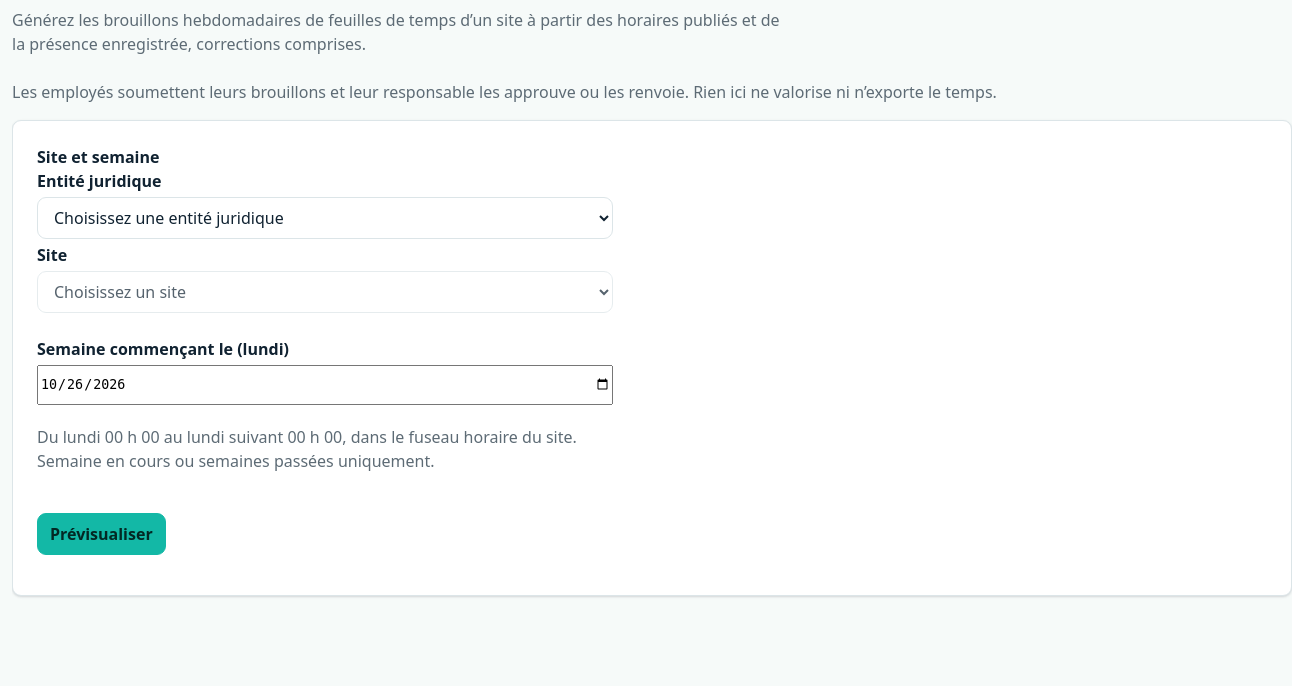
Test: Timesheets (fr) › shows a refused week without guessing
Select "Dival RDC (DRC)" in the dropdown labelled "Entité juridique" at (325,218), box [37,197,613,239]
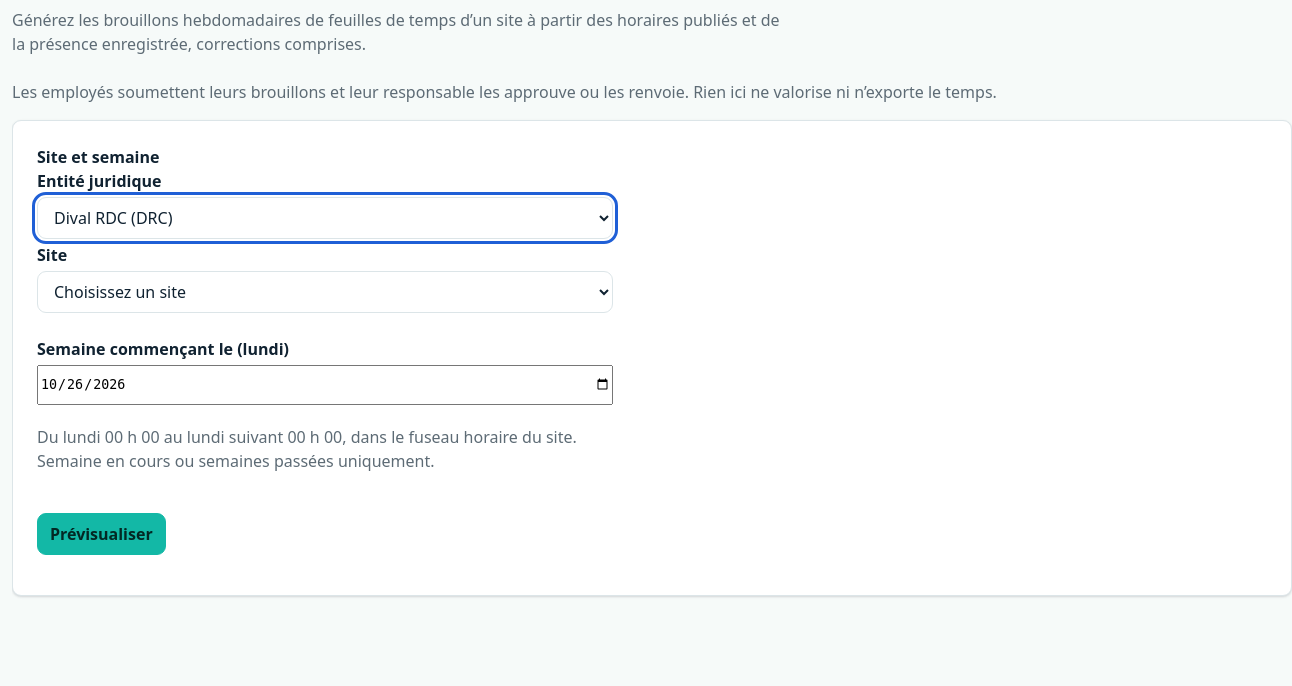
Select "Kinshasa Gombe (KIN)" in the dropdown labelled "Site" at (325,292), box [37,271,613,313]
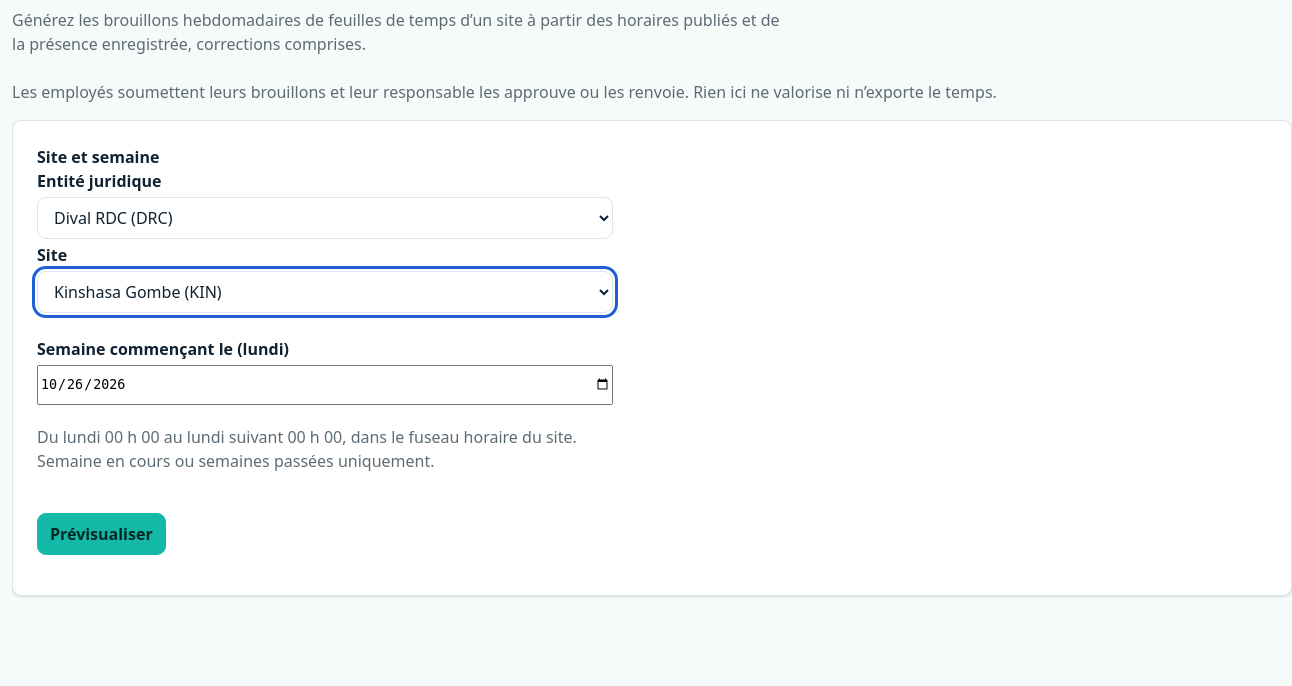
Type "2099-11-02" into the date field labelled "Semaine commençant le (lundi)".
click(325, 385); type("2099-11-02")  # box [37,365,613,405]
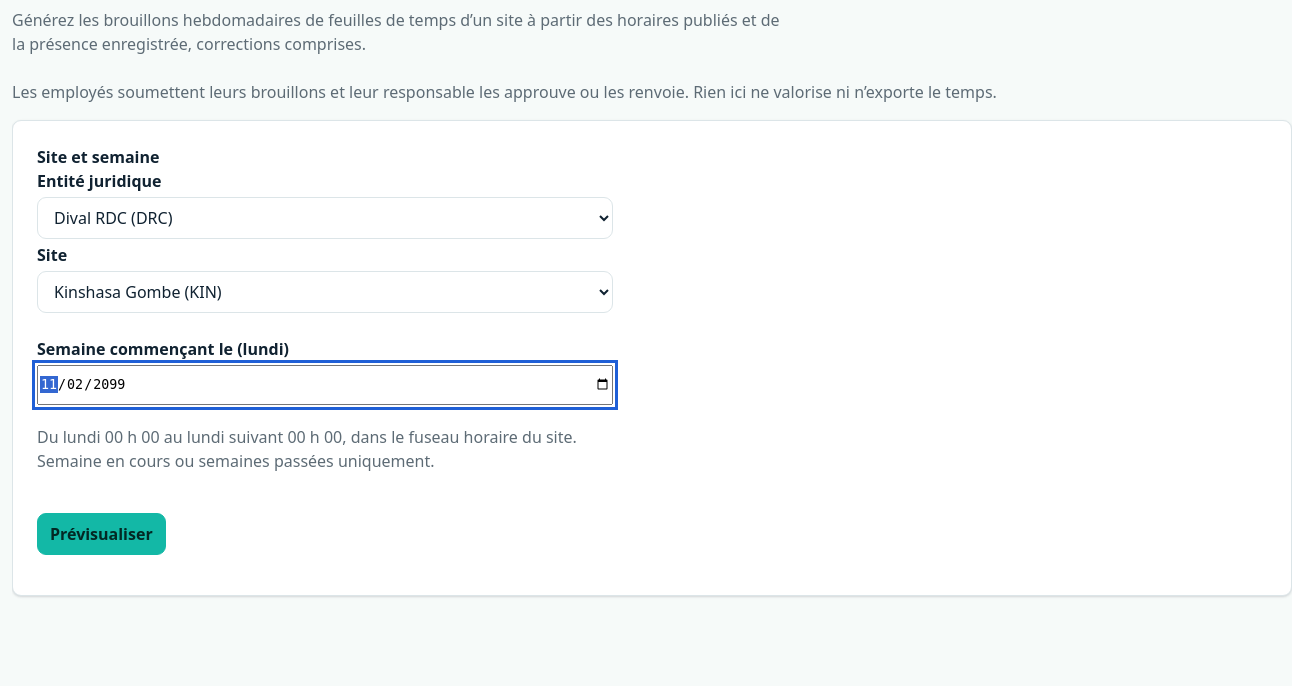
Click the button "Prévisualiser".
click(101, 534)  # box [37,513,166,555]
(page scrolled)
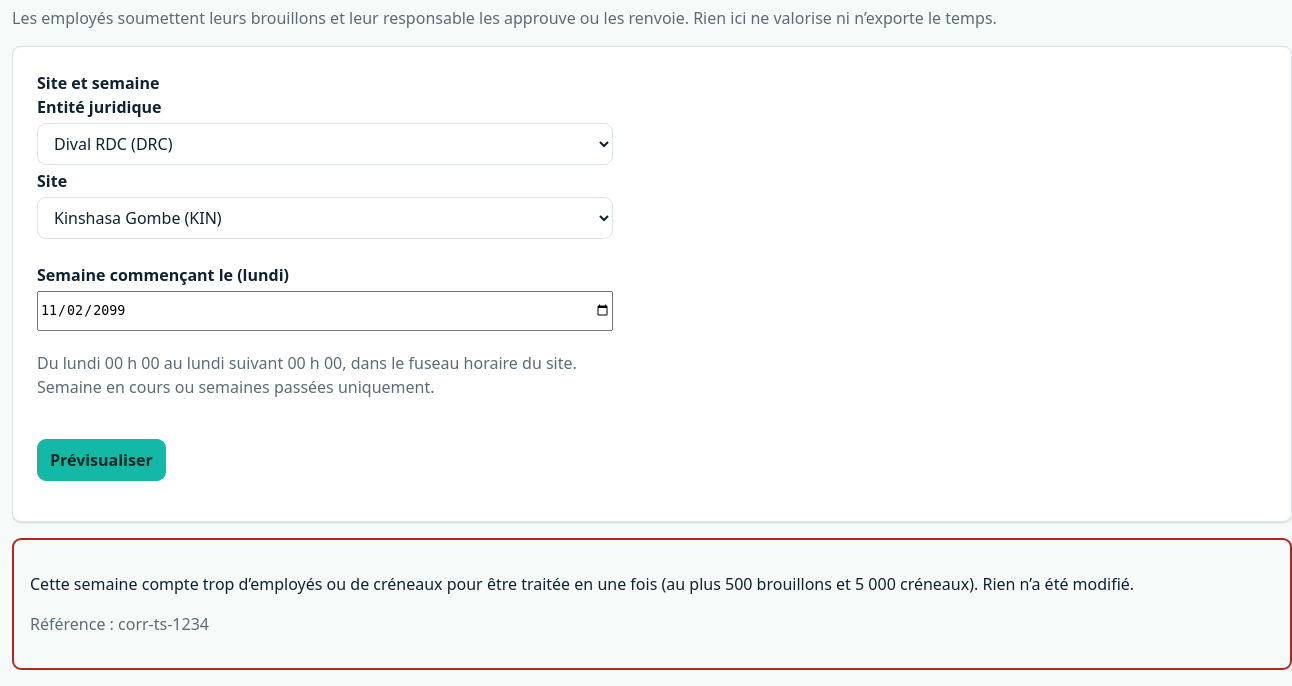
Result: the message with test id "timesheets-error" shows "Cette semaine compte trop d’employés ou de créneaux pour être traitée en une fois (au plus 500 brouillons et 5 000 créneaux). Rien n’a été modifié." at [30,573,1134,595]
Result: the message with test id "timesheets-error" shows "corr-ts-1234" at [30,613,209,635]
